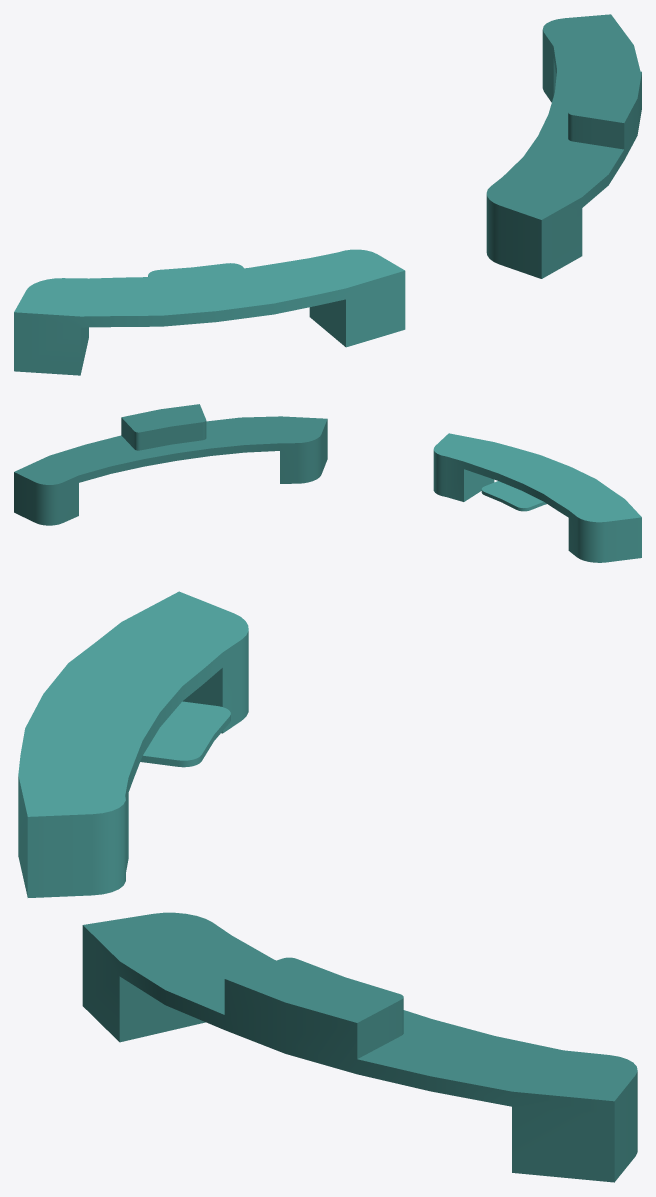
The model's file is Mesas.fbx.
The picture shows the model from 3 angles, top to bottom: view 1: azimuth 30°, elevation 25°; view 2: azimuth 150°, elevation 25°; view 3: azimuth 270°, elevation 25°; orthographic projection. The views are drawn at different scales.
Visible parts, largest first — view 1: Cube.042, Cube.041; view 2: Cube.041, Cube.042; view 3: Cube.041, Cube.042.
Boxes of the visible parts, x1=… form: Cube.042: x1=14, y1=249, x2=405, y2=375; Cube.041: x1=486, y1=14, x2=641, y2=278; Cube.041: x1=14, y1=404, x2=327, y2=525; Cube.042: x1=433, y1=433, x2=641, y2=562; Cube.041: x1=82, y1=912, x2=637, y2=1182; Cube.042: x1=18, y1=591, x2=248, y2=897.
Size of the model in its own units: 1253 by 135 by 647.
